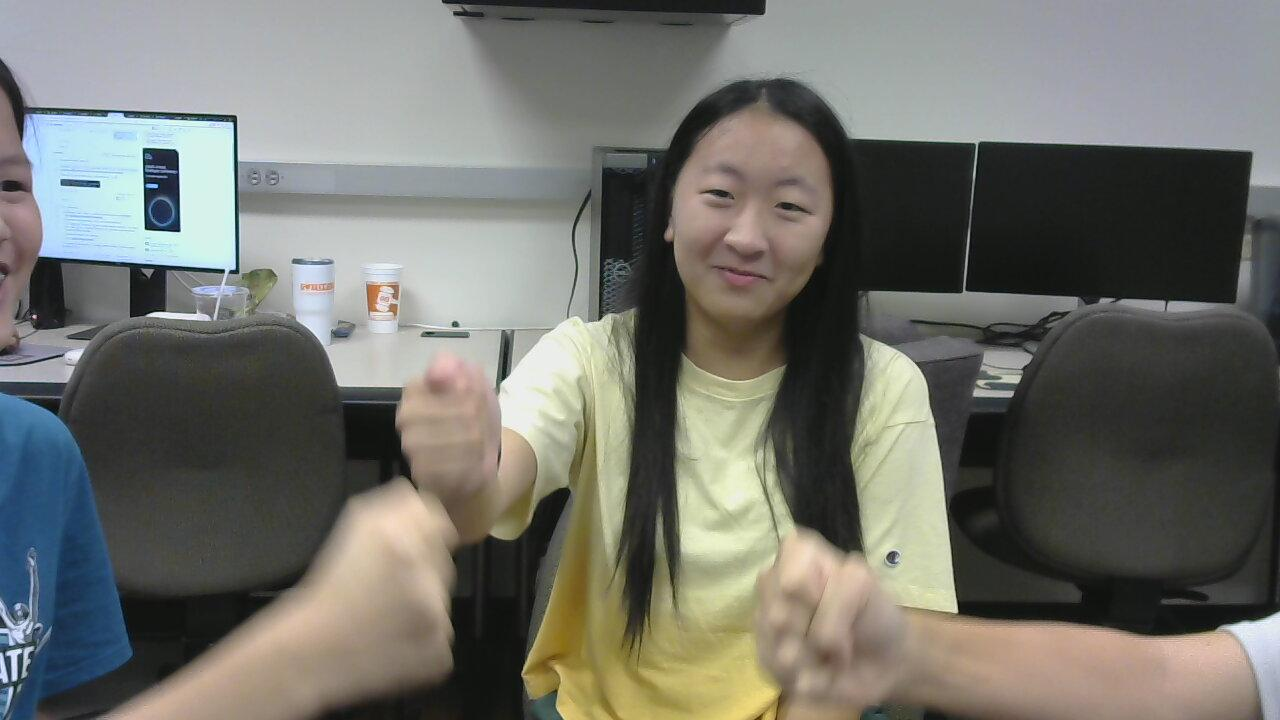fist: (294, 478, 494, 687), (746, 522, 917, 720), (392, 357, 524, 510)
